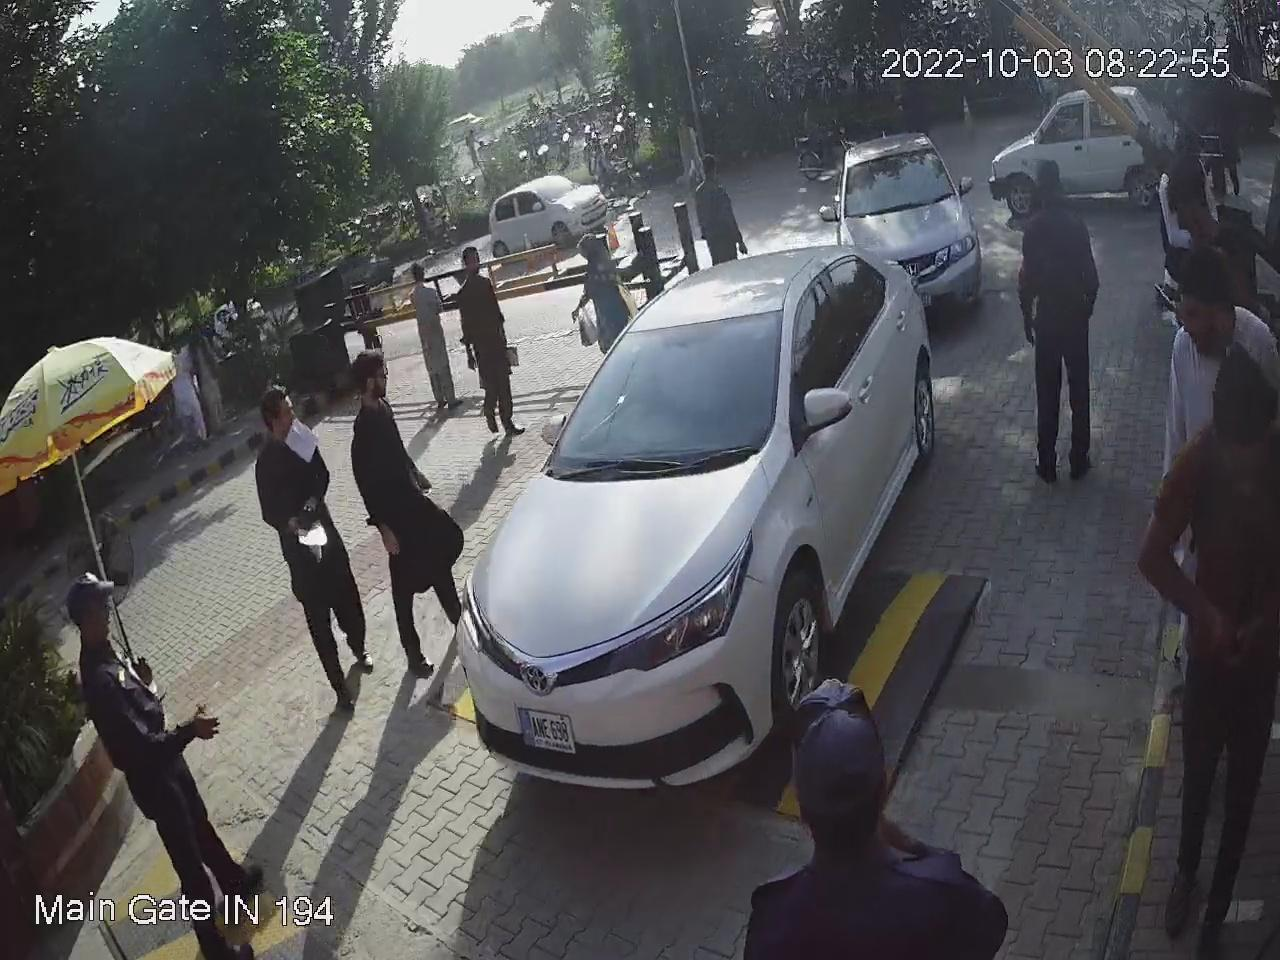windshield: (543, 303, 788, 465)
